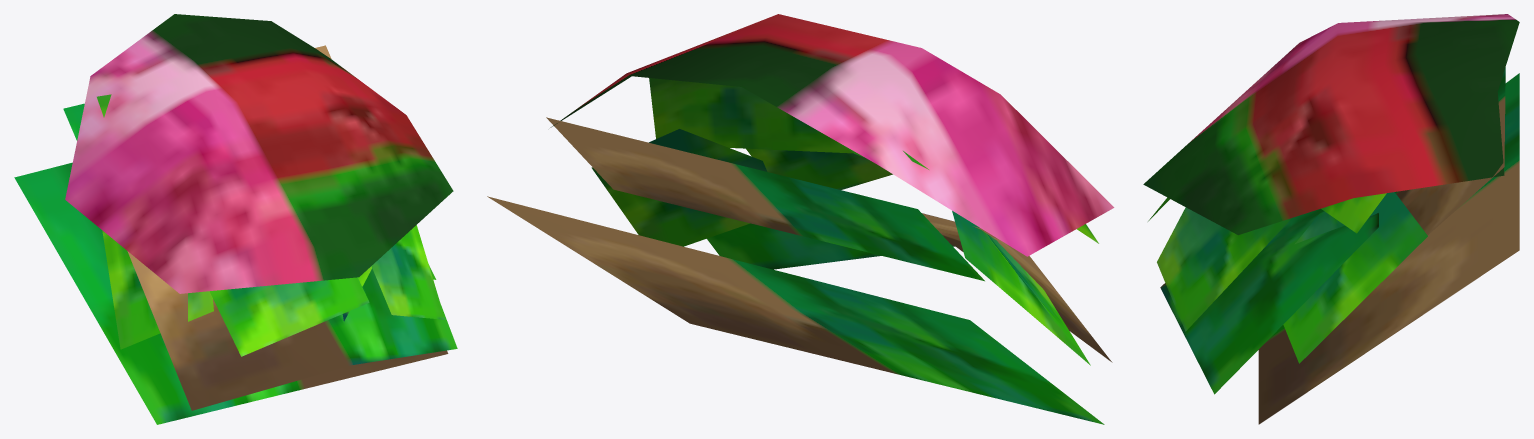
Rendered from fg_bushB_2_s.dae.
3 views of the same model, side by side, from view 1: azimuth 30°, elevation 25°; view 2: azimuth 150°, elevation 25°; view 3: azimuth 270°, elevation 25° (orthographic). The views are drawn at different scales.
Visible parts, largest first — view 1: fg_bushB_2_s; view 2: fg_bushB_2_s; view 3: fg_bushB_2_s.
Part boxes in pixels (left/top/right/bottom): fg_bushB_2_s: left=14, top=14, right=457, bottom=424; fg_bushB_2_s: left=487, top=14, right=1114, bottom=424; fg_bushB_2_s: left=1143, top=14, right=1519, bottom=424.
Size of the model in its own units: 43.24 by 35.41 by 37.79.
1 material, 1 textured.
